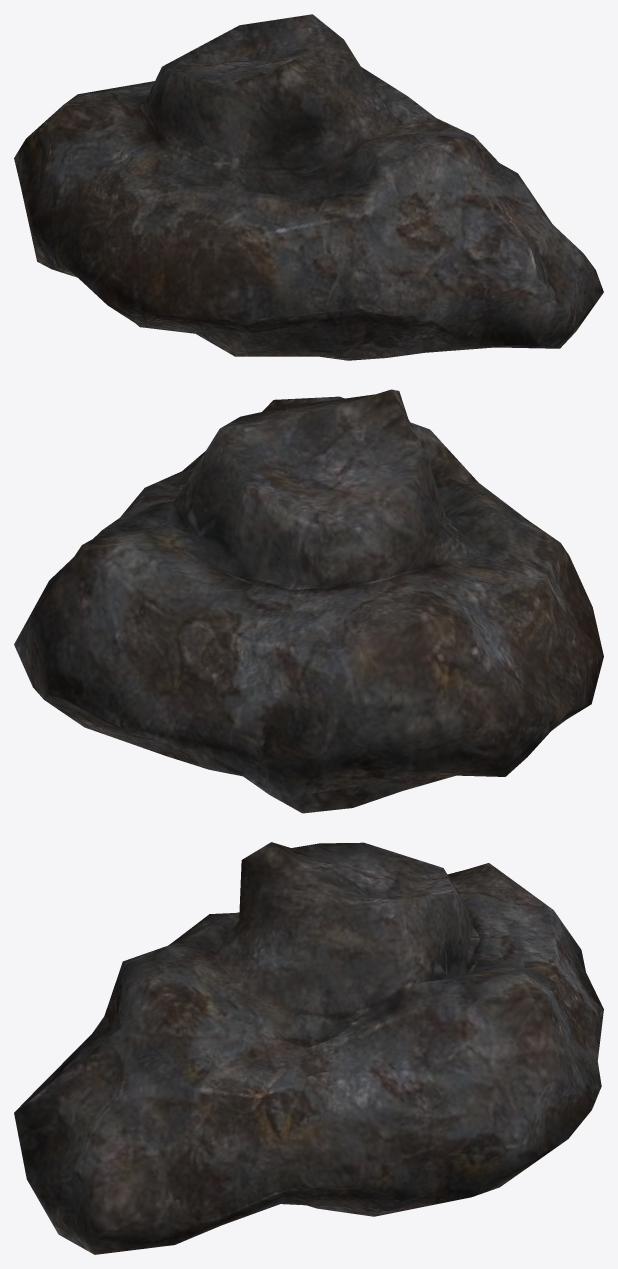
The model's file is rock_05.dae.
The picture shows the model from 3 angles, top to bottom: view 1: azimuth 30°, elevation 25°; view 2: azimuth 150°, elevation 25°; view 3: azimuth 270°, elevation 25°; orthographic projection. The views are drawn at different scales.
Parts seen in each view (by area): view 1: rock_05; view 2: rock_05; view 3: rock_05.
Boxes of the visible parts, <box> form: rock_05: <box>14,14,603,360</box>; rock_05: <box>14,389,603,813</box>; rock_05: <box>14,842,603,1254</box>.
Size of the model in its own units: 0.9392 by 0.9907 by 0.5916.
Materials: 1 (1 with a texture image).
